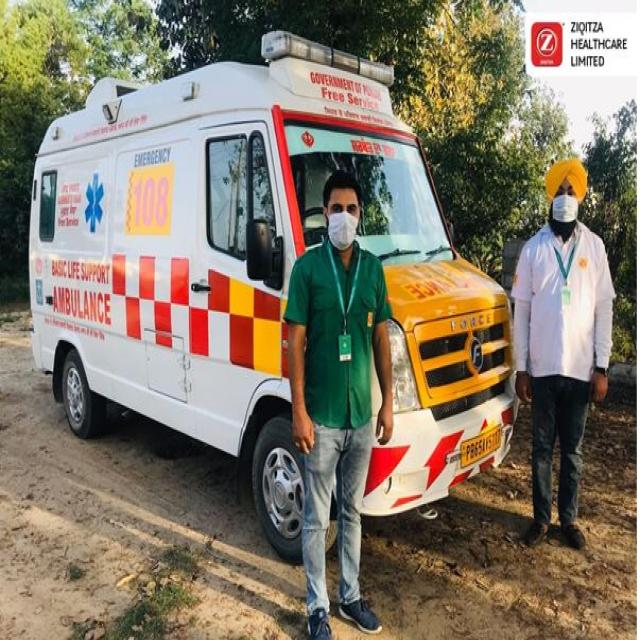emergency: (30, 31, 519, 560)
